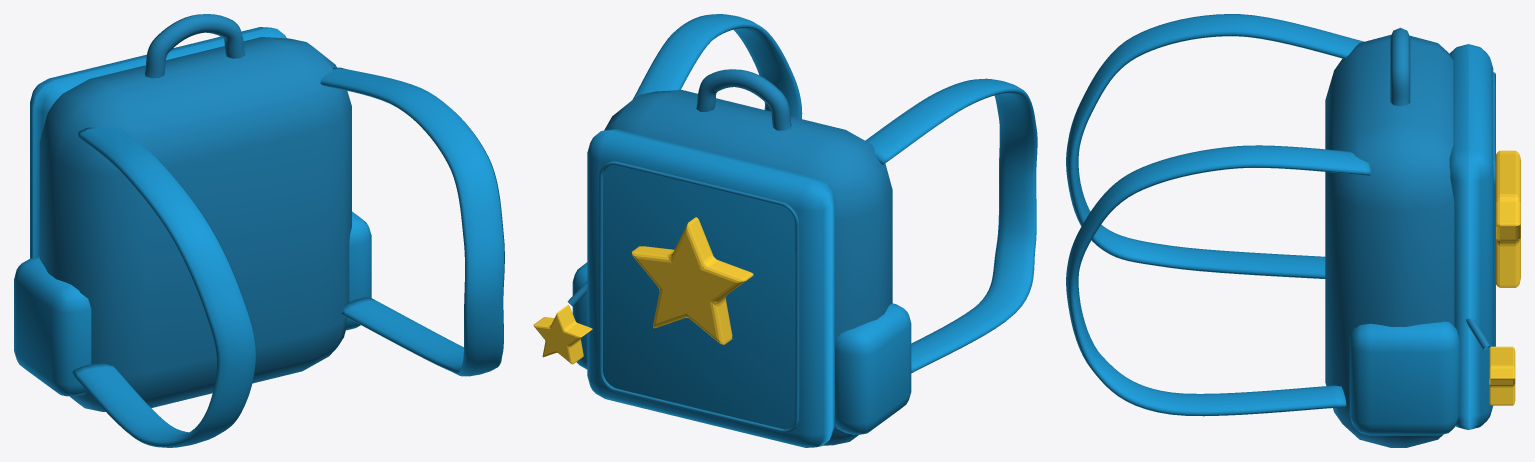
Rendered from backpack.glb.
3 renders of one model, left to right at view 1: azimuth 30°, elevation 25°; view 2: azimuth 150°, elevation 25°; view 3: azimuth 270°, elevation 25°, orthographic. The views are drawn at different scales.
Visible parts, largest first — view 1: backpack; view 2: backpack; view 3: backpack.
Part boxes in pixels (x1=…): backpack: x1=14, y1=14, x2=504, y2=447; backpack: x1=533, y1=14, x2=1037, y2=447; backpack: x1=1066, y1=14, x2=1520, y2=447.
Size of the model in its own units: 0.748 by 0.7709 by 0.8677.
